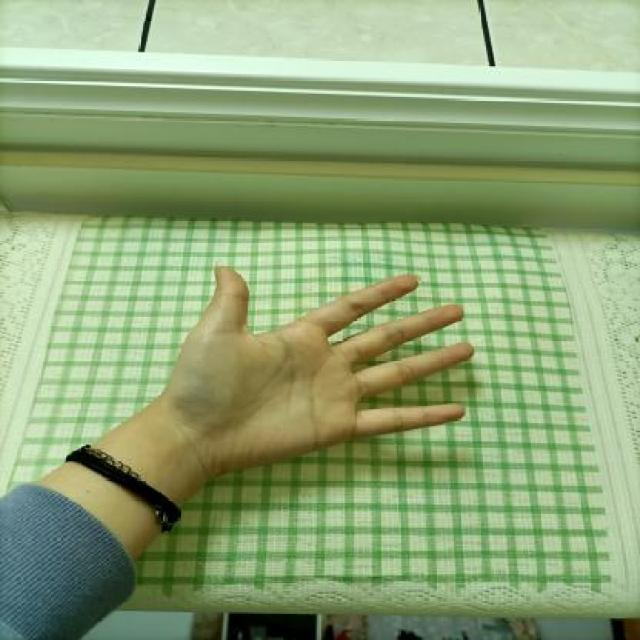bare_hand: (152, 246, 503, 483)
